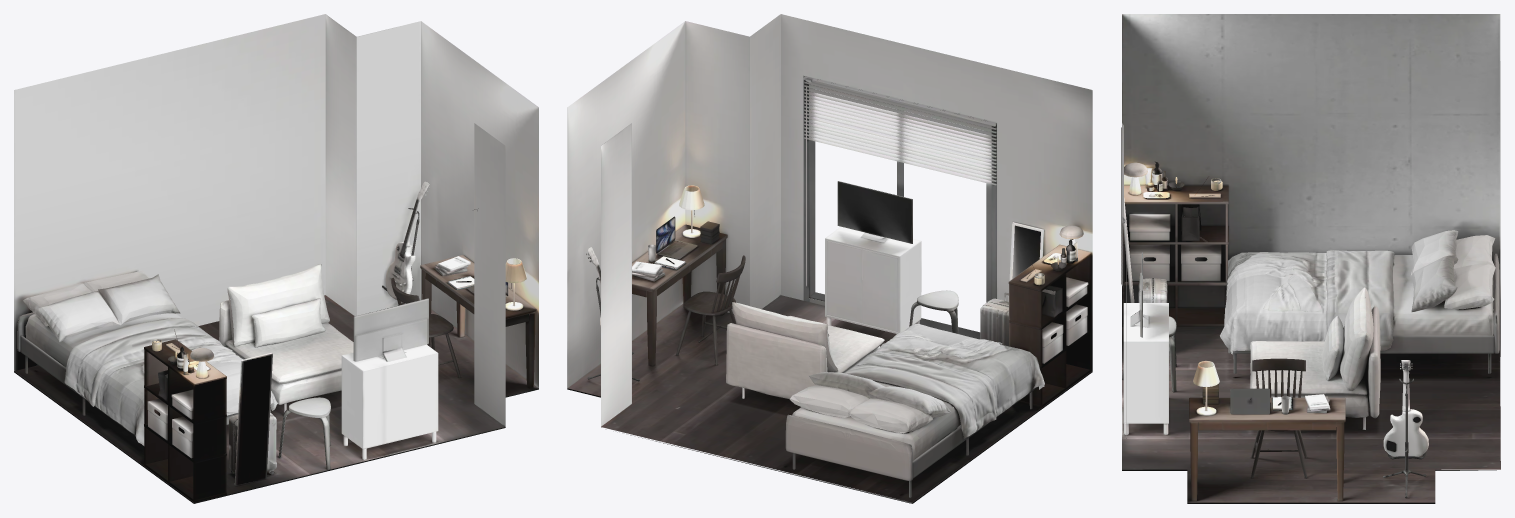
The model's file is compressed_alt1.glb.
The picture shows the model from 3 angles, left to right: view 1: azimuth 30°, elevation 25°; view 2: azimuth 150°, elevation 25°; view 3: azimuth 270°, elevation 25°; orthographic projection. The views are drawn at different scales.
Visible parts, largest first — view 1: desktop_alt1; view 2: desktop_alt1; view 3: desktop_alt1.
Part boxes in pixels (x1=…): desktop_alt1: x1=14, y1=14, x2=538, y2=503; desktop_alt1: x1=567, y1=14, x2=1092, y2=503; desktop_alt1: x1=1121, y1=14, x2=1500, y2=503.
Bounding box in the file's own units: 3.55 × 2.51 × 2.91.
1 material, 1 textured.
